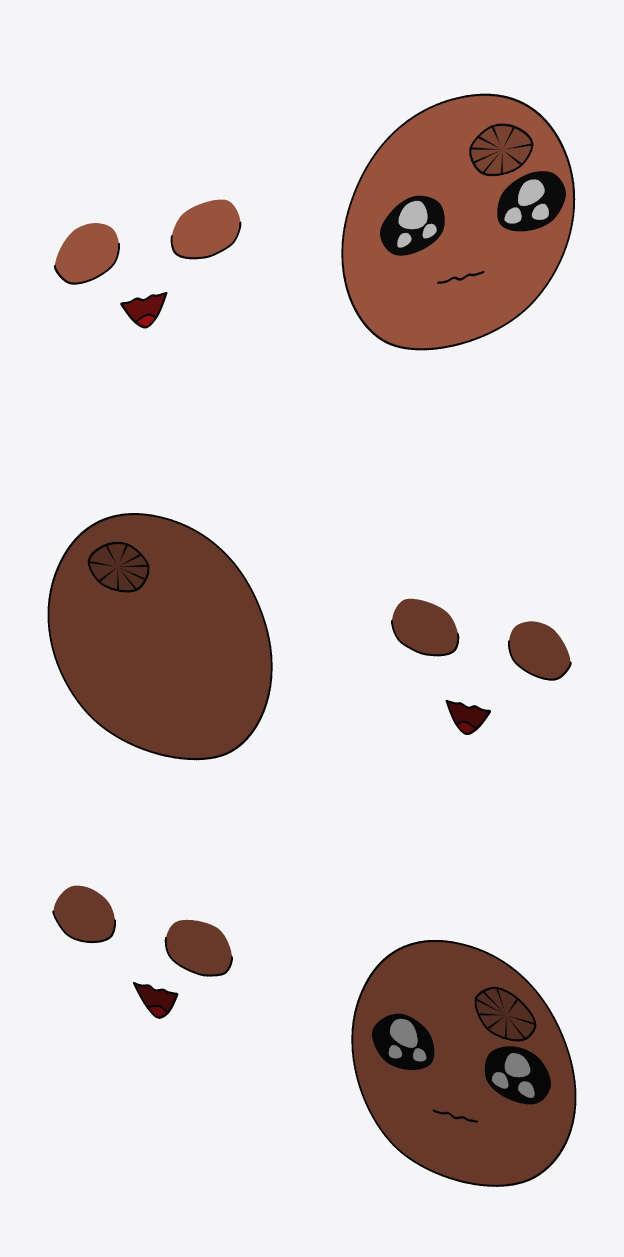
The picture shows the model from 3 angles, top to bottom: view 1: azimuth 30°, elevation 25°; view 2: azimuth 150°, elevation 25°; view 3: azimuth 330°, elevation 25°; orthographic projection. The views are drawn at different scales.
Parts seen in each view (by area): view 1: Layer 1, Layer 5, Layer 3, Layer 2; view 2: Layer 1, Layer 5, Layer 2; view 3: Layer 1, Layer 5, Layer 3, Layer 2.
Boxes of the visible parts, <box> form: Layer 1: <box>341,93,575,350</box>; Layer 5: <box>54,199,241,284</box>; Layer 3: <box>380,171,565,255</box>; Layer 2: <box>120,292,167,328</box>; Layer 1: <box>47,513,272,760</box>; Layer 5: <box>391,598,571,680</box>; Layer 2: <box>445,700,490,734</box>; Layer 1: <box>351,940,576,1186</box>; Layer 5: <box>52,885,232,976</box>; Layer 3: <box>372,1013,550,1104</box>; Layer 2: <box>133,982,178,1018</box>.
Size of the model in its own units: 475 by 239 by 15.61.
5 materials, 5 textured.
